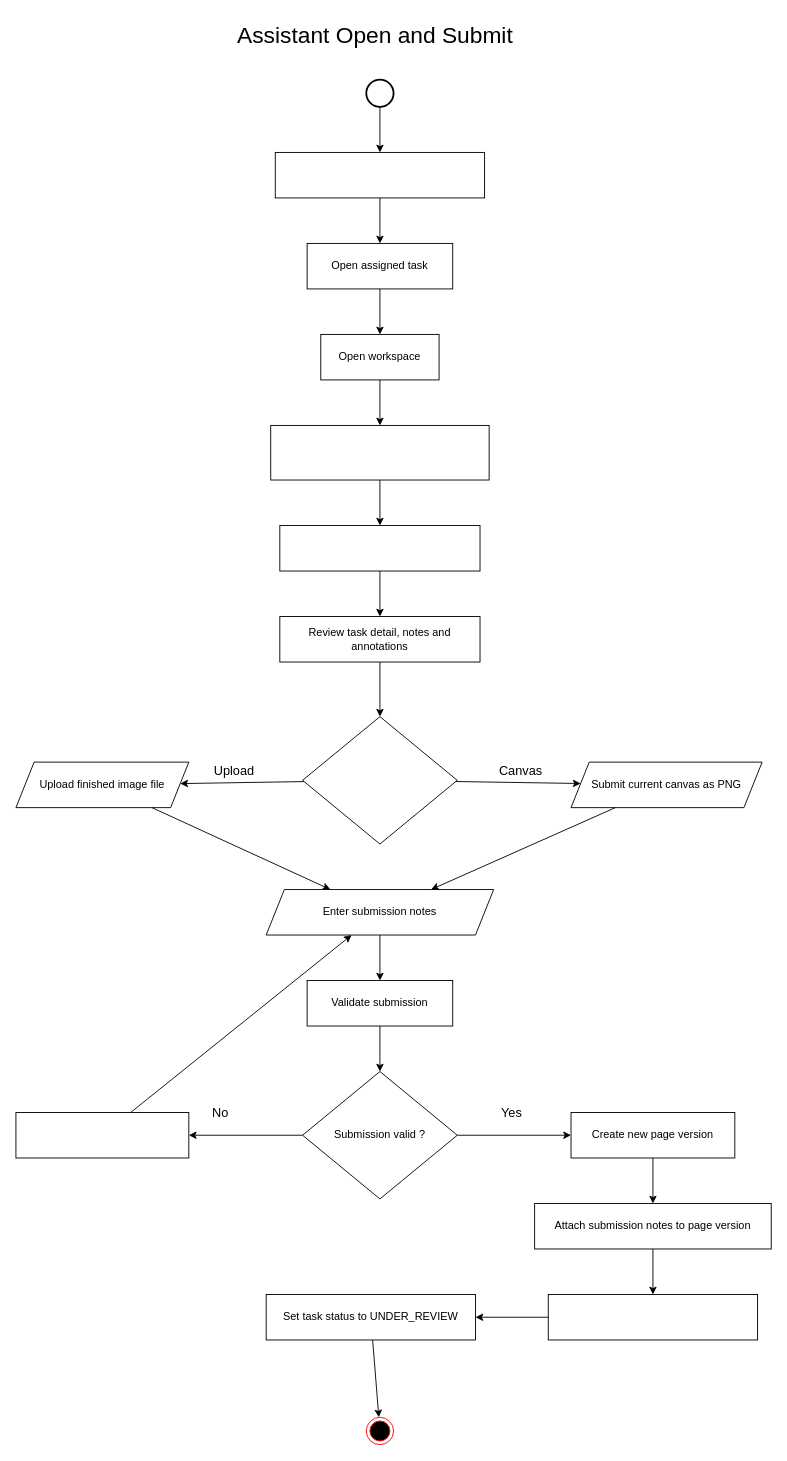
Some shapes in this 787 by 1461 pixel diagram are drawn without their labels. Here are the shapes that lost their labels. From the top down, the centre of each, then its label:
(x=379, y=175): Open Dashboard or Assigned Tasks
(x=379, y=452): Resolve task context series + chapter + page + regions + source version
(x=379, y=548): Navigate to assigned chapter and page
(x=379, y=780): Submission method ?
(x=102, y=1135): Show validation errors
(x=652, y=1317): Link submitted page version to task
